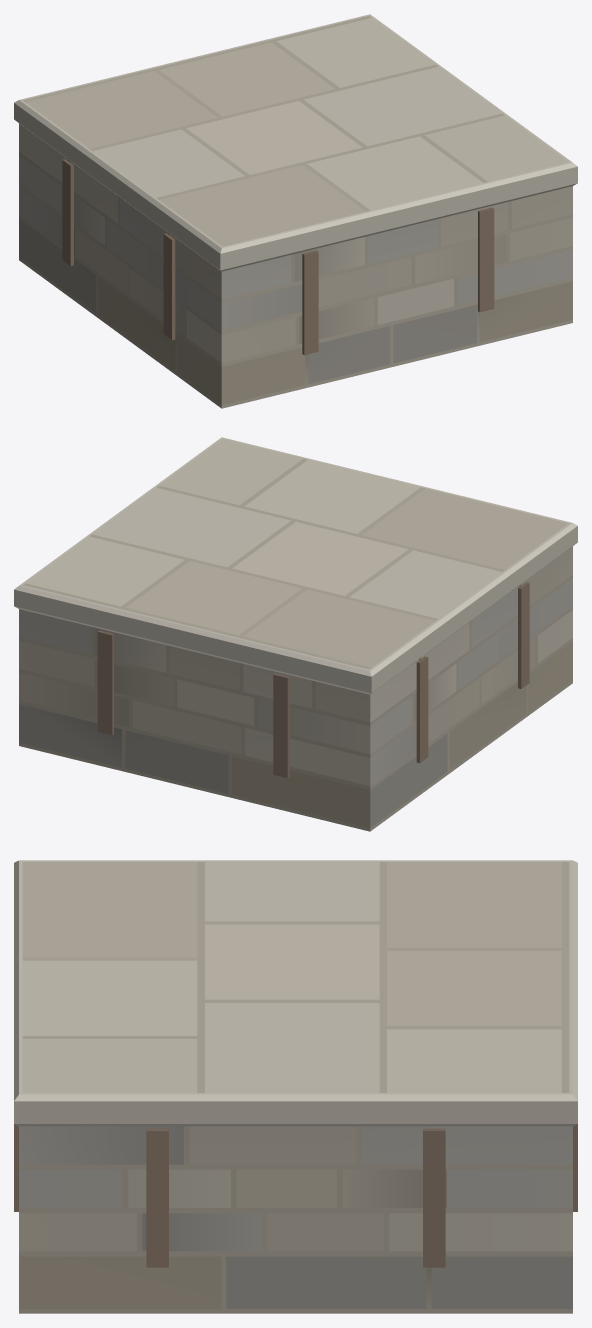
The model's file is quay.glb.
3 views of the same model, one above another, from view 1: azimuth 30°, elevation 25°; view 2: azimuth 150°, elevation 25°; view 3: azimuth 270°, elevation 25° (orthographic). The views are drawn at different scales.
Size of the model in its own units: 4.48 by 1.92 by 4.48.
